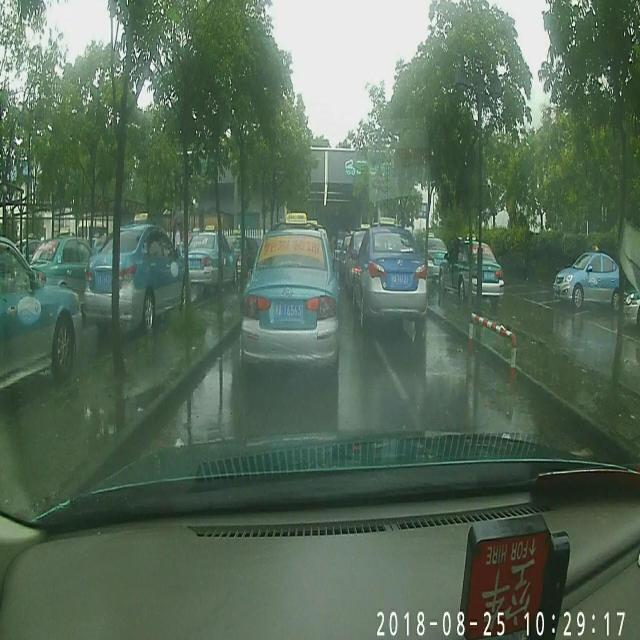car: (238, 213, 342, 378), (82, 212, 188, 328), (350, 220, 430, 324), (23, 228, 106, 310), (552, 250, 627, 310), (437, 236, 505, 302), (178, 226, 240, 291)
